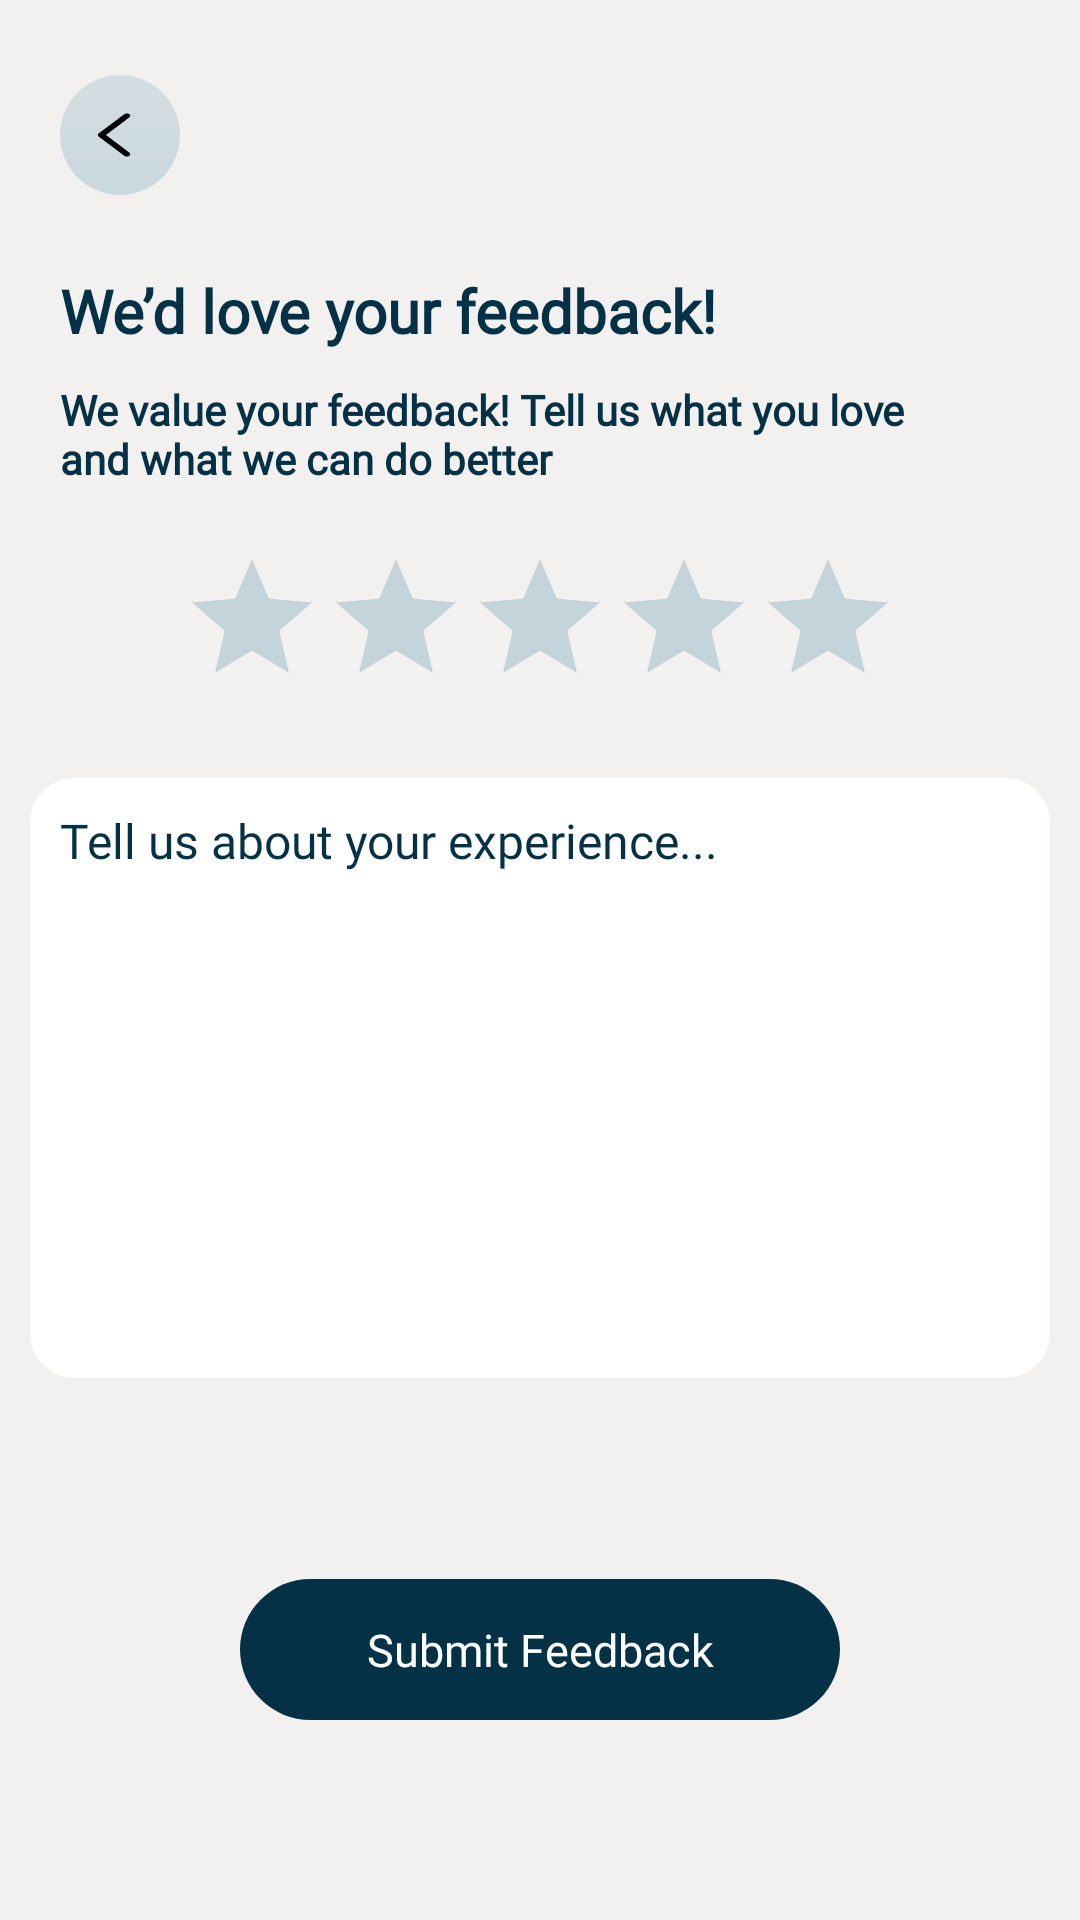

Locate icon controls on the screen. Image size 1080×1920, boxes as (x1, y1, x2, y2).
back arrow: (98, 113, 131, 157)
